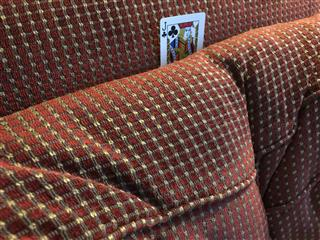JackOfClubs: (159, 11, 206, 67)
